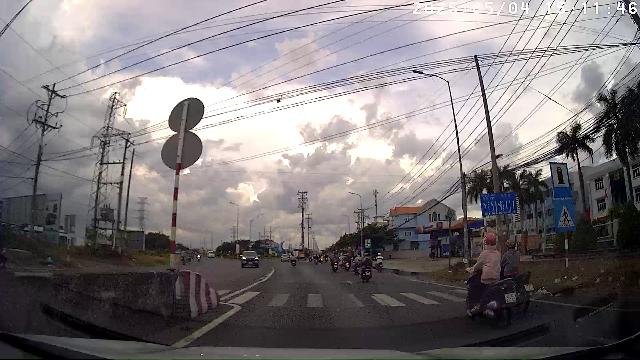423a-duong-nguoi-di-bo-sang-ngang-1: (554, 199, 576, 230)
